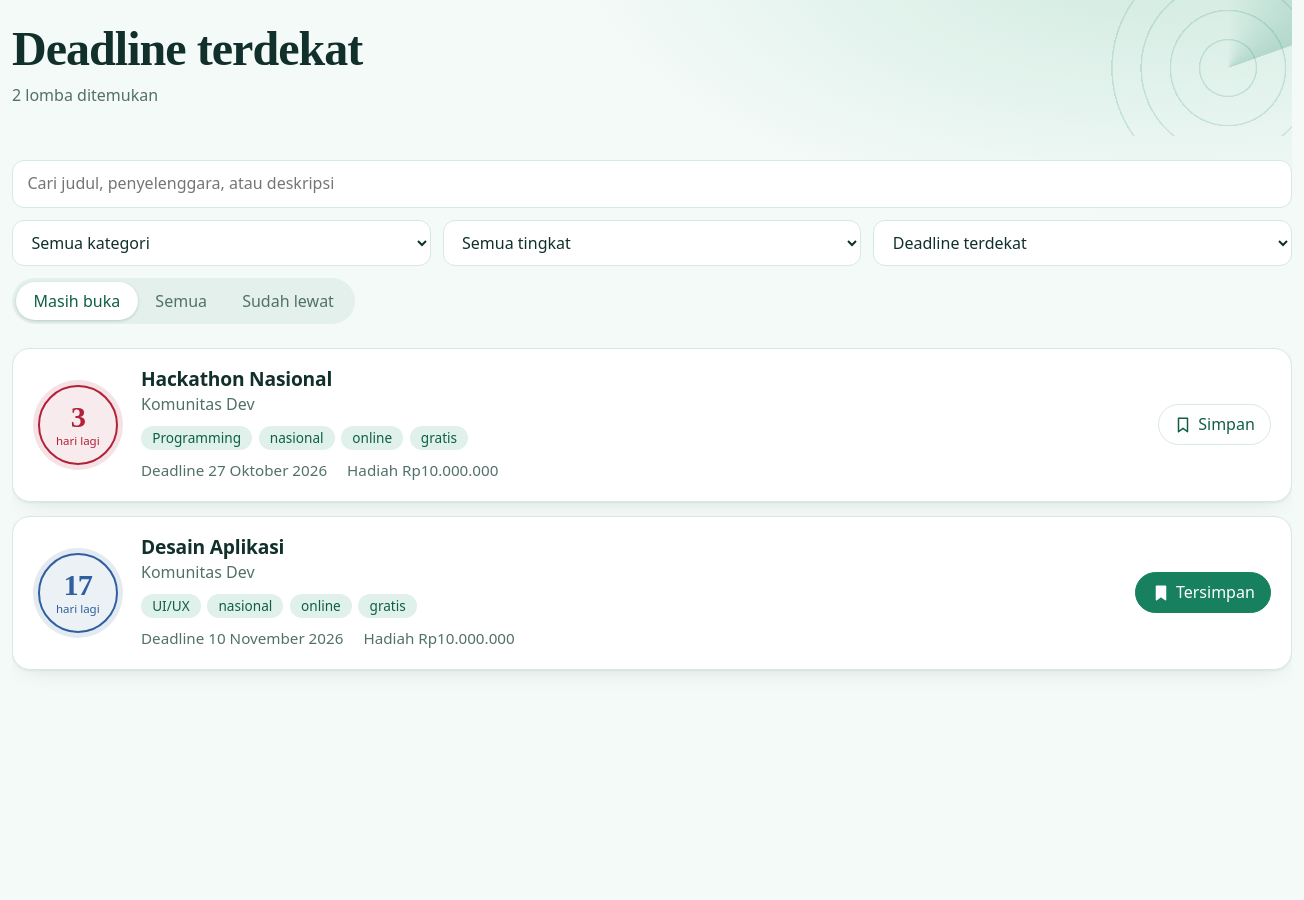
Test: Beranda › gagal menyimpan bookmark menampilkan error dan status tidak berubah
The width and height of the screenshot is (1304, 900).
Expected: the link "Hackathon Nasional" is shown, [141, 364, 332, 392]
Click the button "Simpan".
click(1214, 425)  # box [1158, 404, 1271, 445]
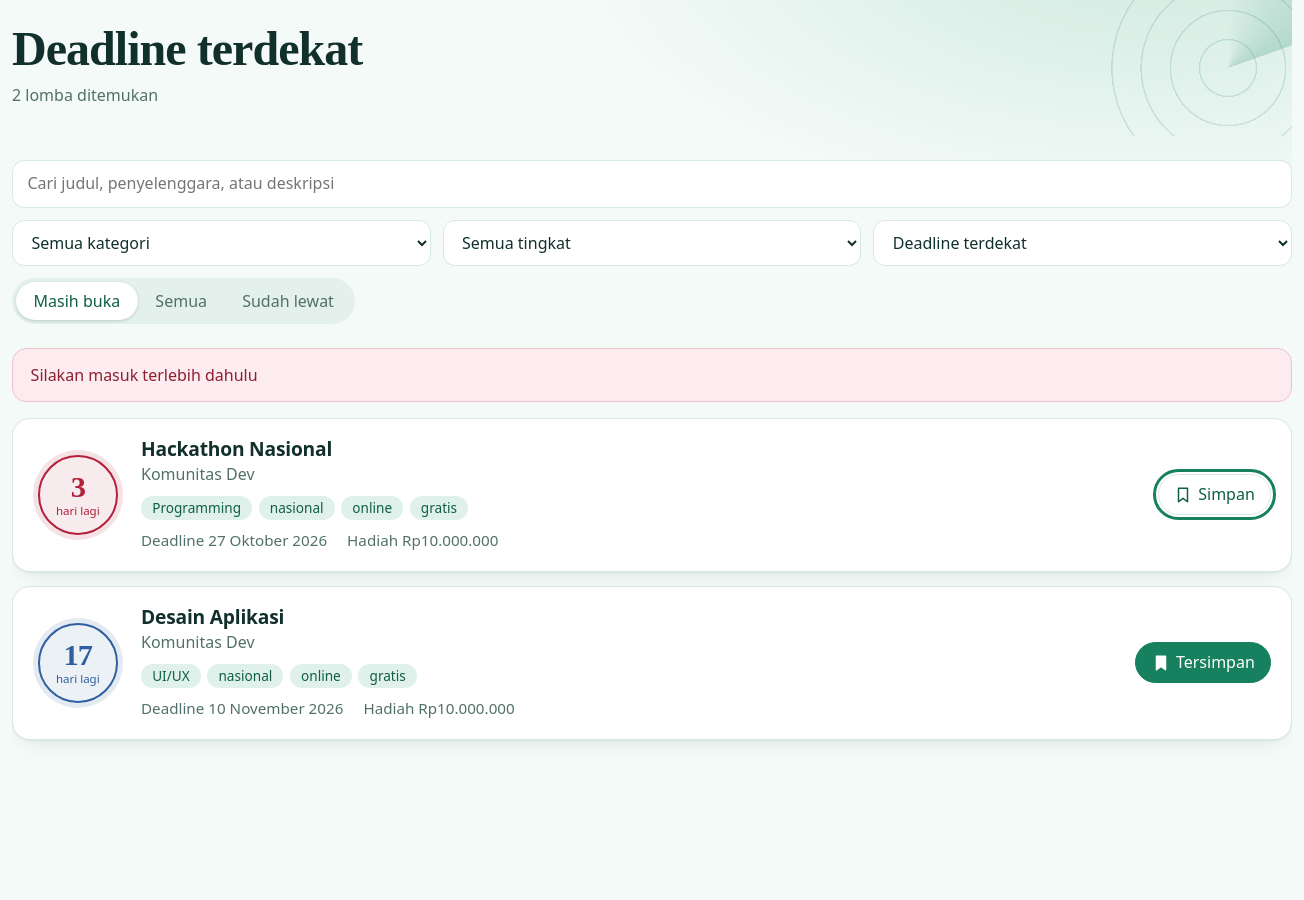
Expected: the number of buttons "Tersimpan" is 1, [1135, 642, 1271, 683]
Expected: the message reads "Silakan masuk terlebih dahulu", [31, 364, 258, 386]
